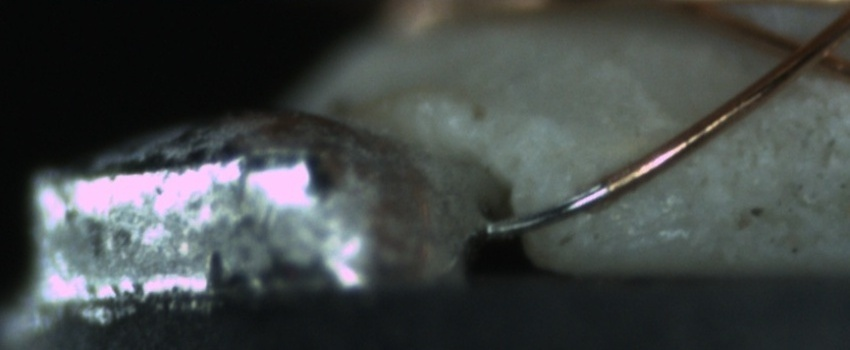CL: (767, 21, 845, 78)
TS: (489, 181, 610, 238)
TTCW: (486, 174, 630, 237)
